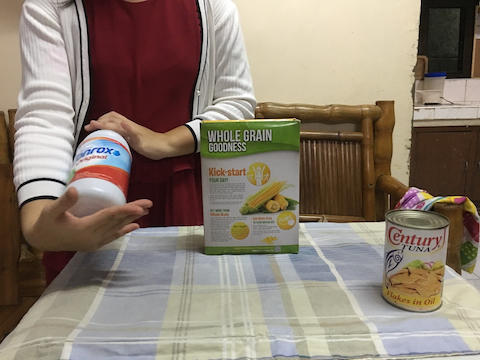bottle: (61, 125, 138, 218)
box: (196, 115, 308, 257)
can: (380, 208, 451, 314)
